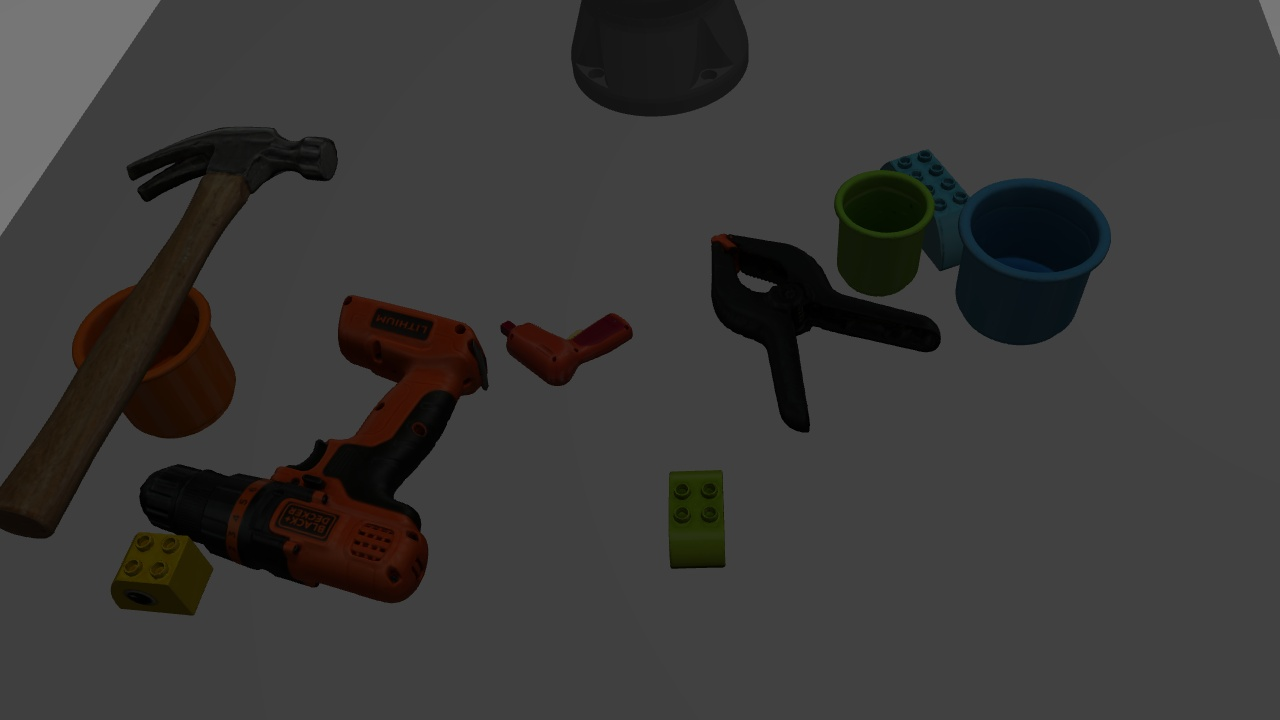hammer: (12, 110, 328, 547)
power_drill: (154, 286, 483, 607)
